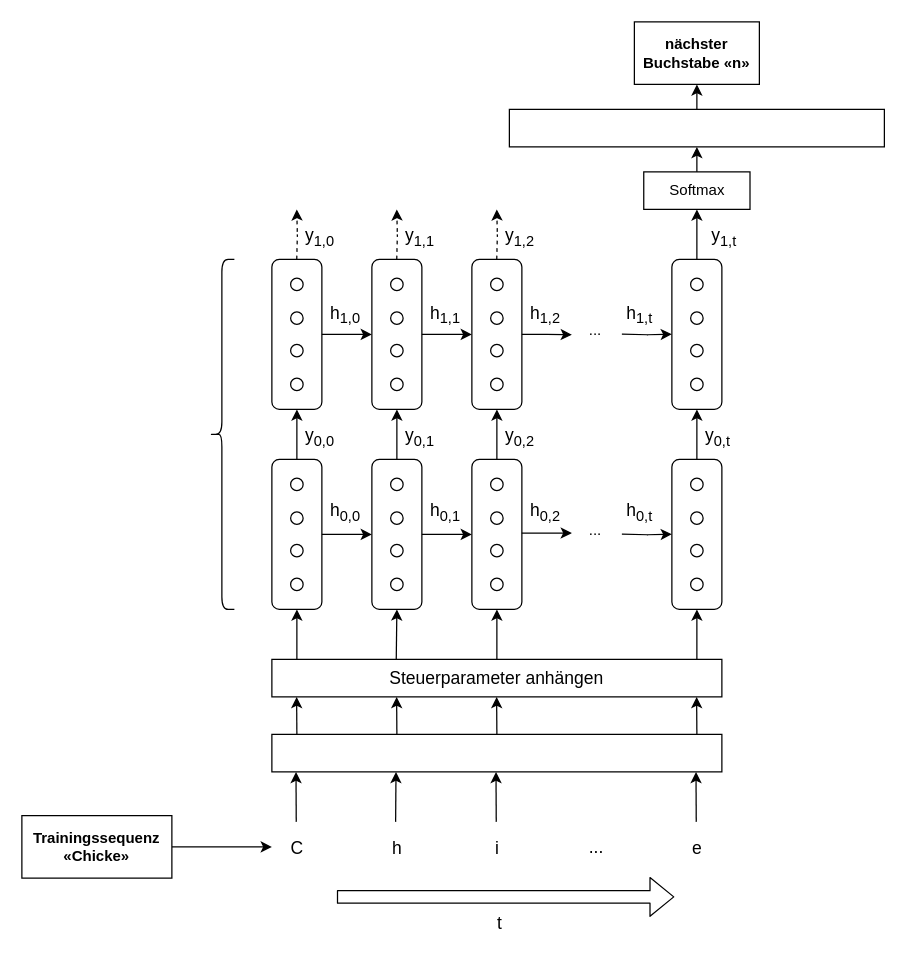
Image size: 906x955. Some labels were removed from this diagram. The centre of each missing label's shape, as x and y in pixels:
"Decodieren von Wahrscheinlichkeits-Vektor" belongs at pixel 696 127.
"Encodieren zu 1-Hot-Vektor" belongs at pixel 496 752.
